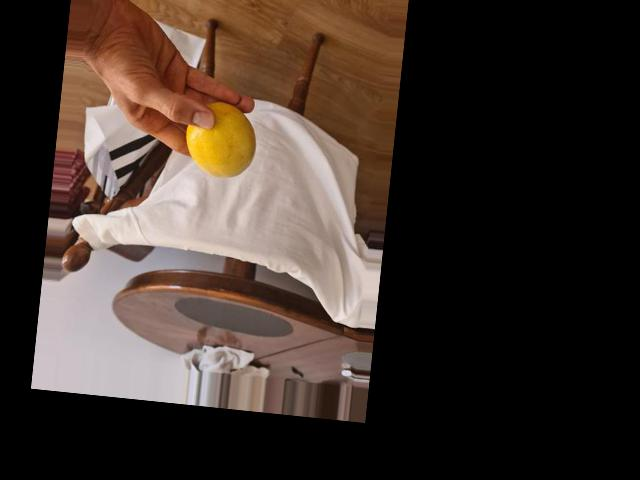lemon: (185, 100, 257, 179)
